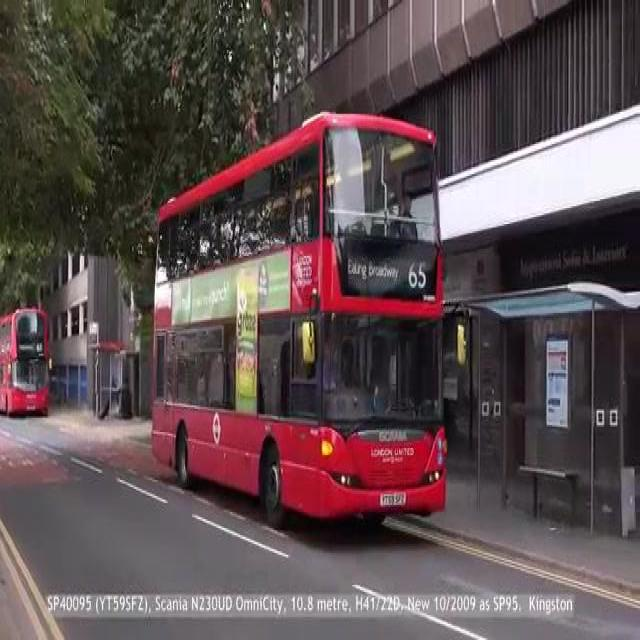motorcycle: (149, 98, 450, 540), (6, 309, 46, 416)
